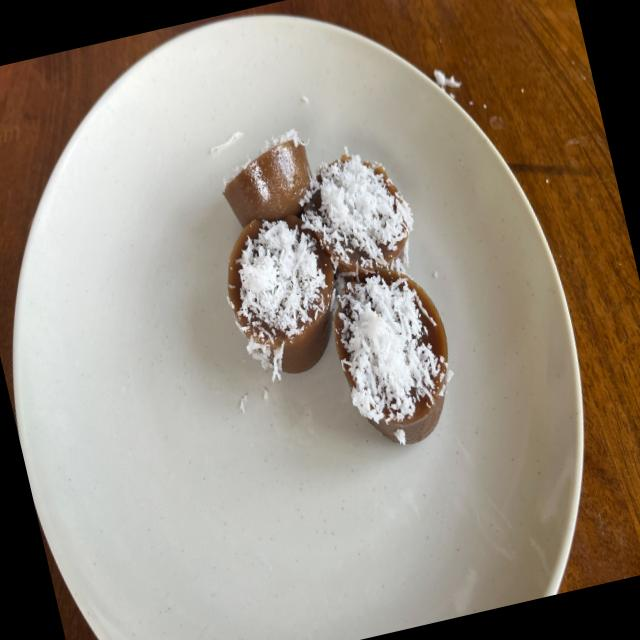Kuih lompang: (333, 268, 448, 444), (228, 215, 334, 379), (301, 154, 413, 275), (223, 139, 310, 226)
